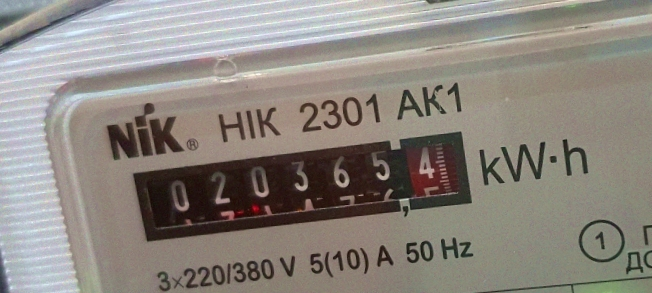0: (249, 162, 271, 200), (168, 177, 191, 212)
2: (207, 168, 232, 206)
3: (289, 156, 310, 192)
4: (415, 144, 436, 179)
5: (369, 148, 392, 182)
6: (329, 152, 352, 189)
screen: (115, 119, 491, 252)
